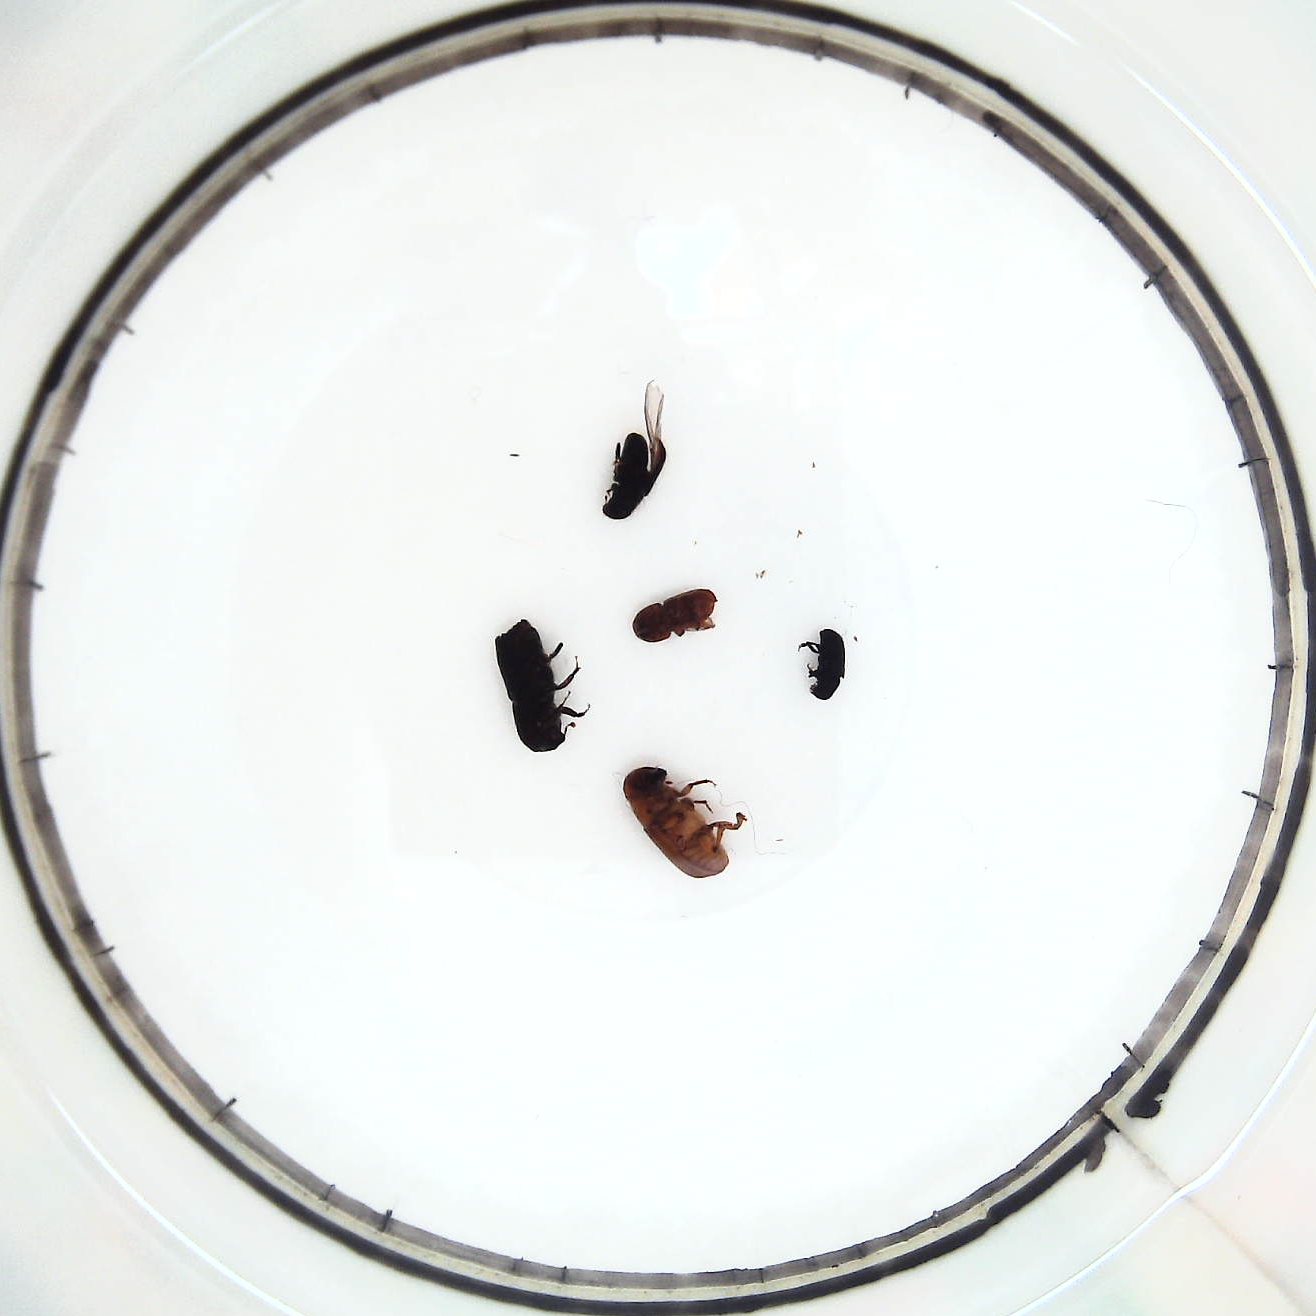Boerner: (490, 613, 597, 759)
Leconte: (618, 762, 754, 885)
armandi: (599, 396, 672, 523)
coleoptera: (801, 623, 850, 706)
linnaeus: (630, 586, 721, 645)
